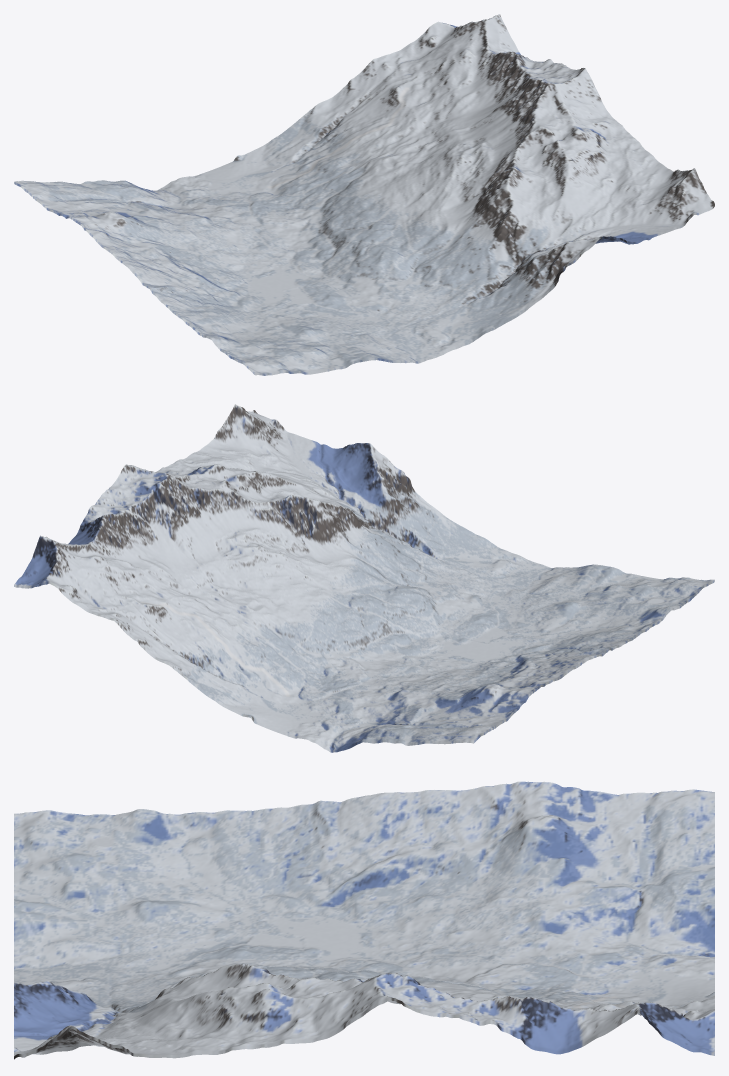
File: terrain_lod1.glb
3 renders of one model, top to bottom at view 1: azimuth 30°, elevation 25°; view 2: azimuth 150°, elevation 25°; view 3: azimuth 270°, elevation 25°, orthographic. The views are drawn at different scales.
Parts seen in each view (by area): view 1: T1_7_7, T1_10_9, T1_8_7, T1_6_7, T1_9_7, T1_8_0, T1_9_2, T1_7_0, T1_10_5, T1_6_9, T1_7_5, T1_10_1 (+97 smaller); view 2: T1_7_6, T1_9_4, T1_9_3, T1_7_9, T1_8_5, T1_10_0, T1_6_1, T1_8_9, T1_7_4, T1_5_3, T1_8_3, T1_10_8 (+91 smaller); view 3: T1_0_4, T1_0_3, T1_1_2, T1_0_5, T1_2_0, T1_1_4, T1_0_7, T1_1_5, T1_0_6, T1_1_3, T1_1_6, T1_10_2 (+65 smaller).
Part boxes in pixels (x1,y1,x2,y2): T1_7_7: (475, 188, 540, 254); T1_10_9: (649, 168, 714, 230); T1_8_7: (517, 169, 582, 222); T1_6_7: (434, 229, 499, 284); T1_9_7: (559, 156, 624, 202); T1_8_0: (348, 54, 413, 104); T1_9_2: (438, 64, 503, 114); T1_7_0: (306, 83, 371, 135); T1_10_5: (552, 85, 617, 127); T1_6_9: (482, 273, 547, 322); T1_7_5: (427, 162, 491, 212); T1_10_1: (456, 14, 520, 64); T1_7_6: (284, 497, 349, 559); T1_9_4: (152, 477, 217, 542); T1_9_3: (128, 503, 193, 567); T1_7_9: (357, 453, 421, 514); T1_8_5: (218, 493, 283, 545); T1_10_0: (14, 541, 79, 588); T1_6_1: (206, 638, 270, 689); T1_8_9: (315, 443, 380, 490); T1_7_4: (236, 545, 301, 594); T1_5_3: (295, 618, 360, 667); T1_8_3: (170, 543, 235, 593); T1_10_8: (207, 412, 272, 464); T1_0_4: (364, 790, 434, 848); T1_0_3: (434, 784, 504, 844); T1_1_2: (504, 820, 574, 881); T1_0_5: (294, 796, 364, 856); T1_2_0: (645, 877, 714, 932); T1_1_4: (364, 844, 434, 896); T1_0_7: (154, 810, 224, 862); T1_1_5: (294, 848, 364, 901); T1_0_6: (224, 806, 294, 857); T1_1_3: (434, 837, 504, 891); T1_1_6: (224, 855, 294, 903); T1_10_2: (504, 996, 574, 1054).
Bounding box in the file's own units: 5632 × 1512 × 5120.
